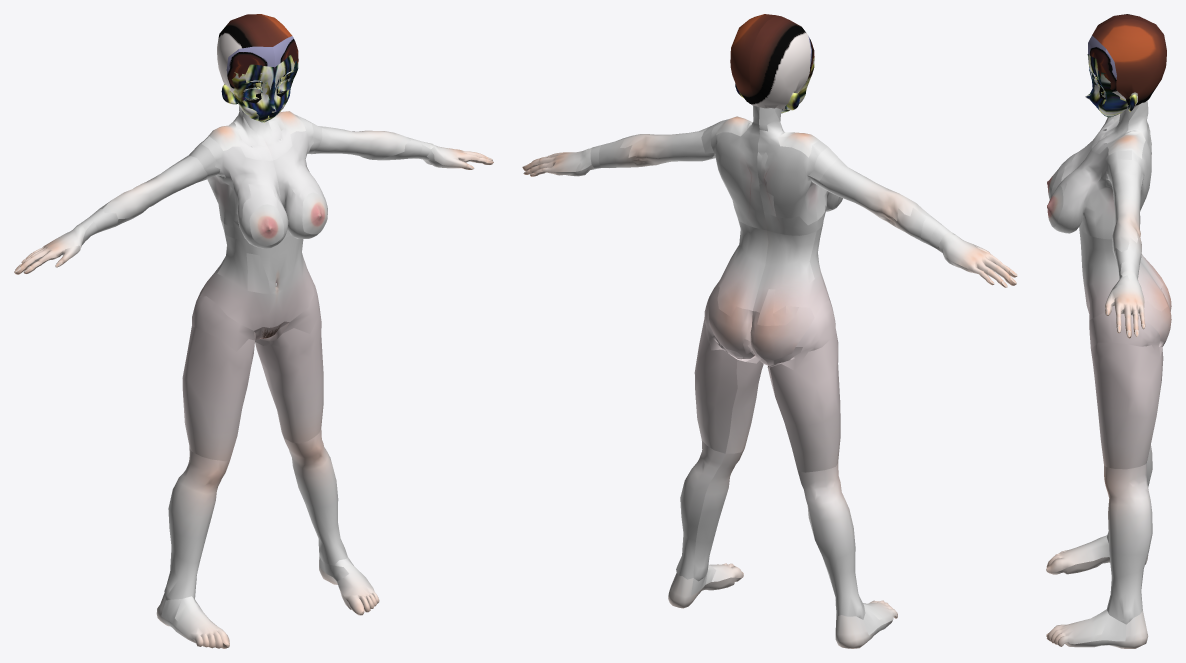
Rendered from maniquicriss2.obj.
3 views of the same model, side by side, from view 1: azimuth 30°, elevation 25°; view 2: azimuth 150°, elevation 25°; view 3: azimuth 270°, elevation 25° (orthographic). The views are drawn at different scales.
Visible parts, largest first — view 1: 材質3.001_CrissNude27.004; view 2: 材質3.001_CrissNude27.004; view 3: 材質3.001_CrissNude27.004.
Boxes of the visible parts, bbox=[...] form: 材質3.001_CrissNude27.004: bbox=[14, 14, 493, 648]; 材質3.001_CrissNude27.004: bbox=[522, 14, 1017, 648]; 材質3.001_CrissNude27.004: bbox=[1046, 14, 1171, 648].
Bounding box in the file's own units: 3.49 × 4.09 × 0.7885.
